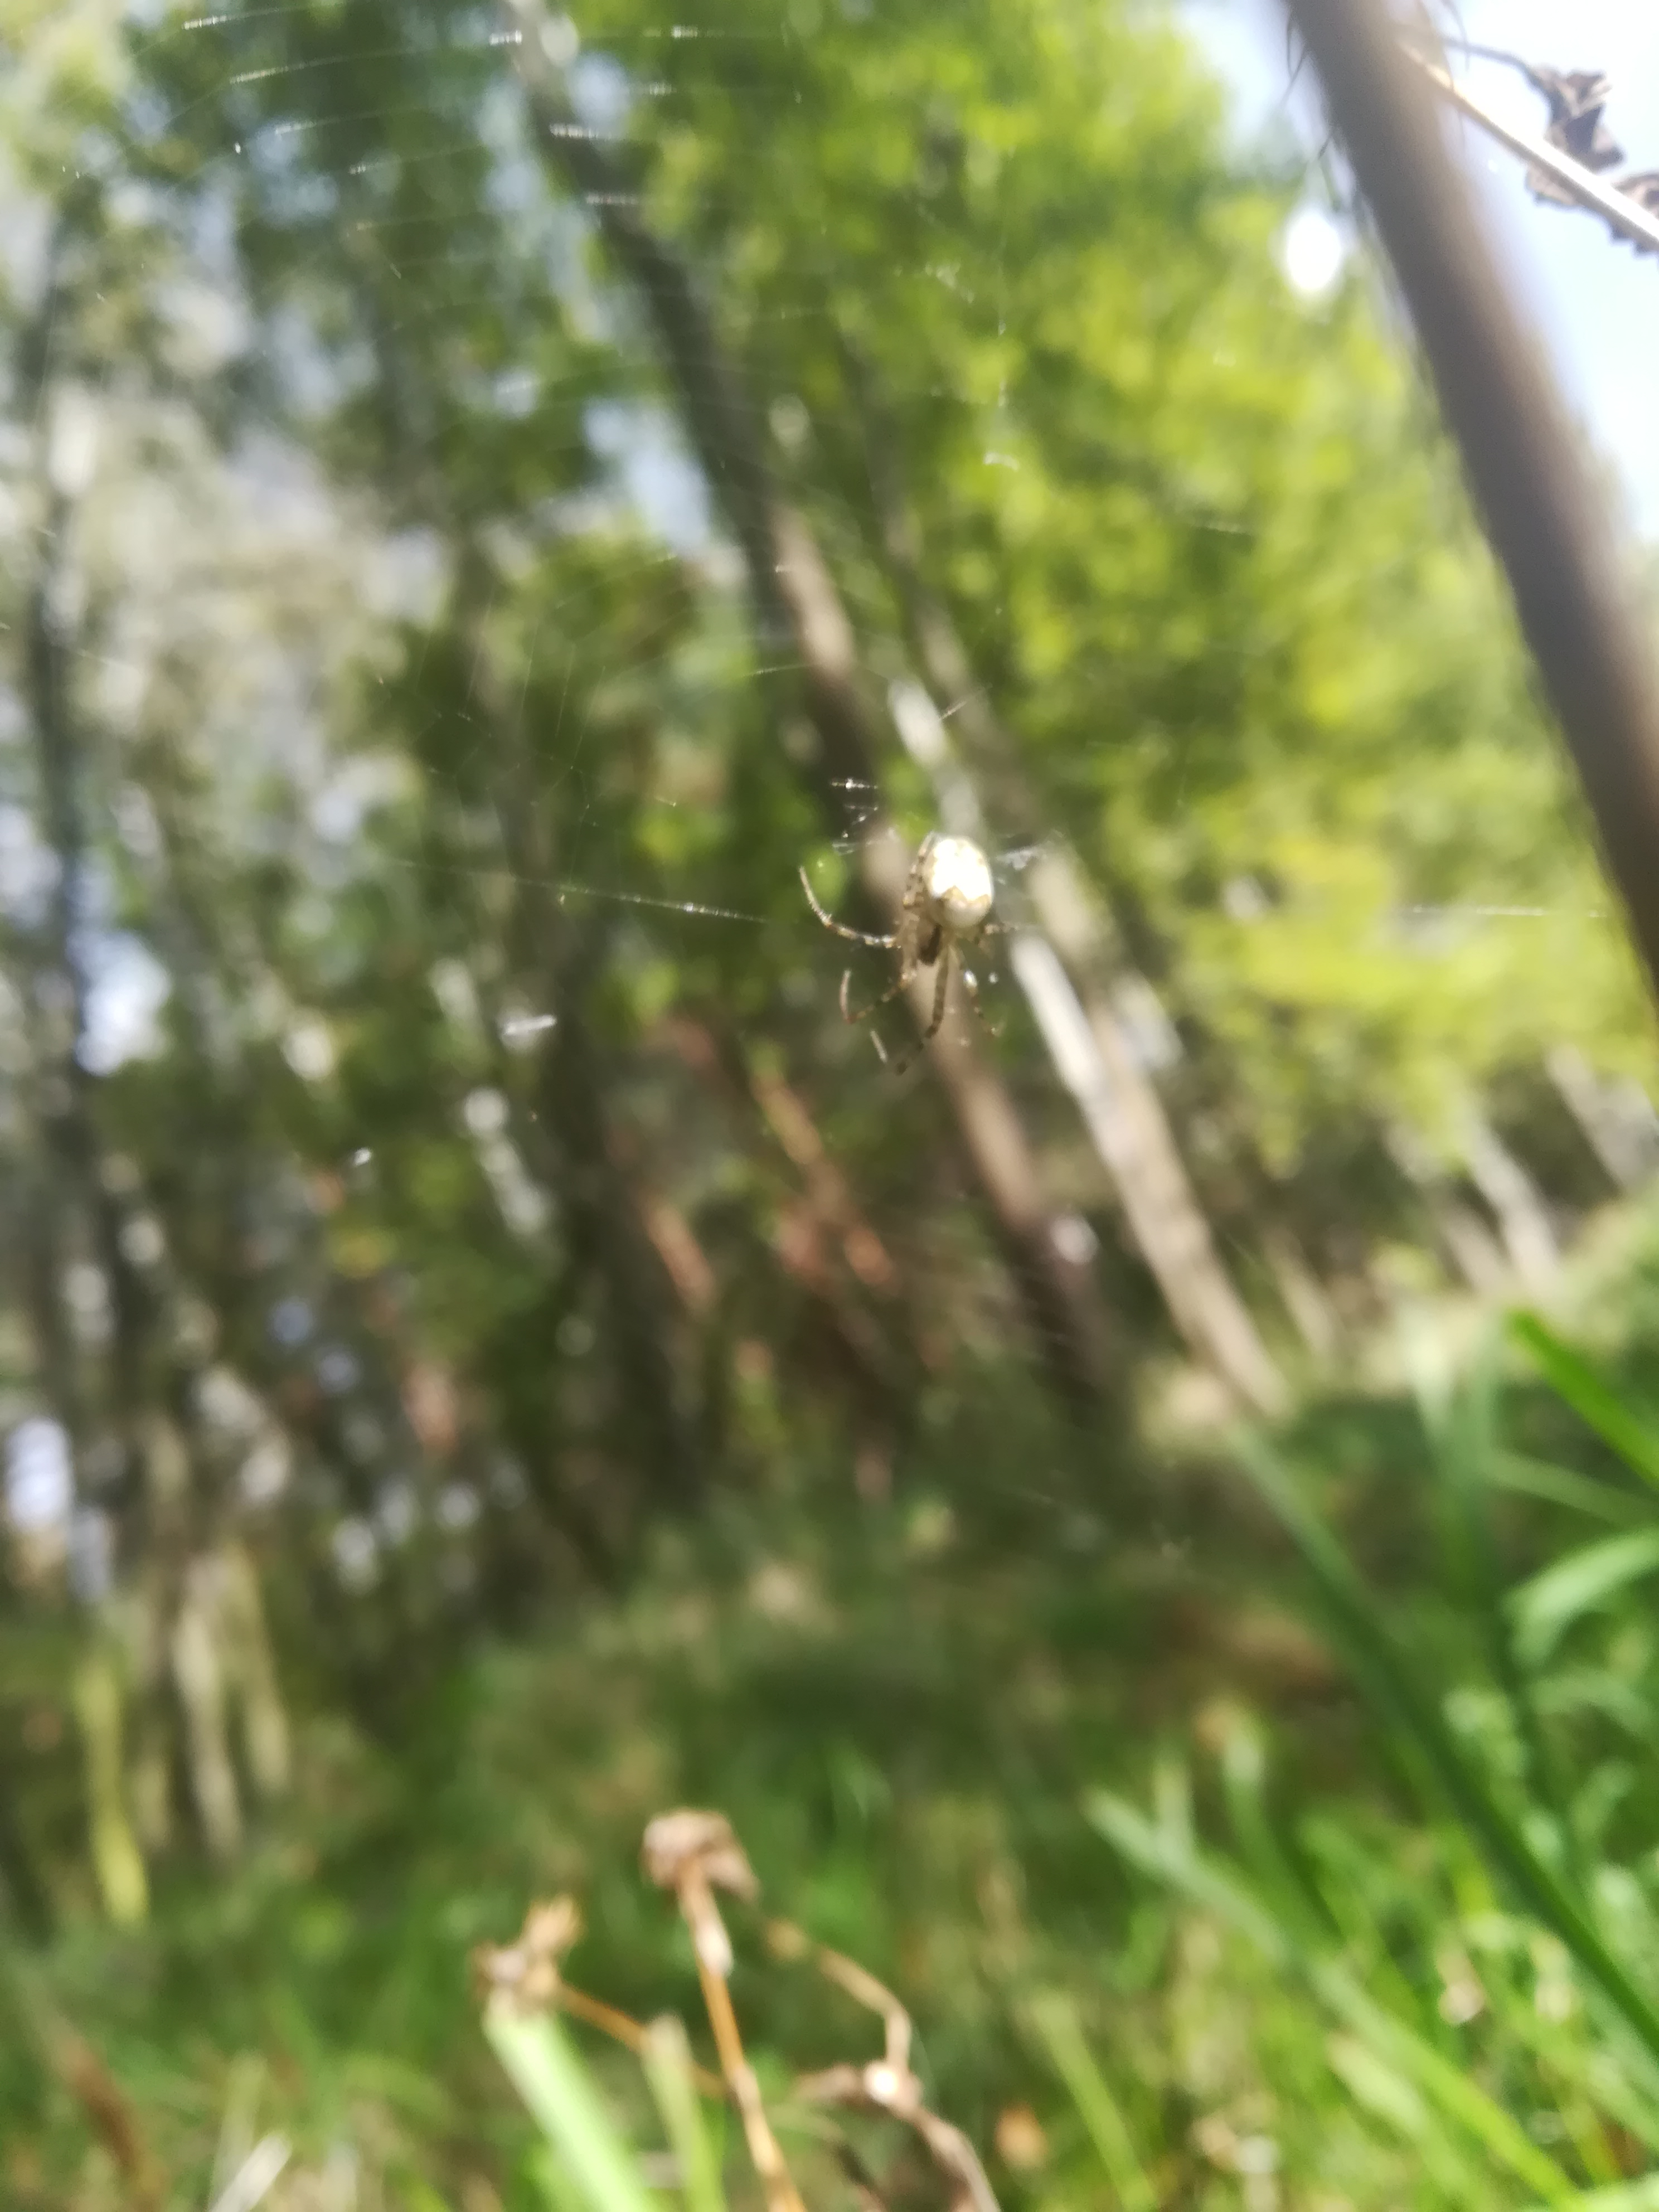spider: (758, 765, 1084, 1115)
